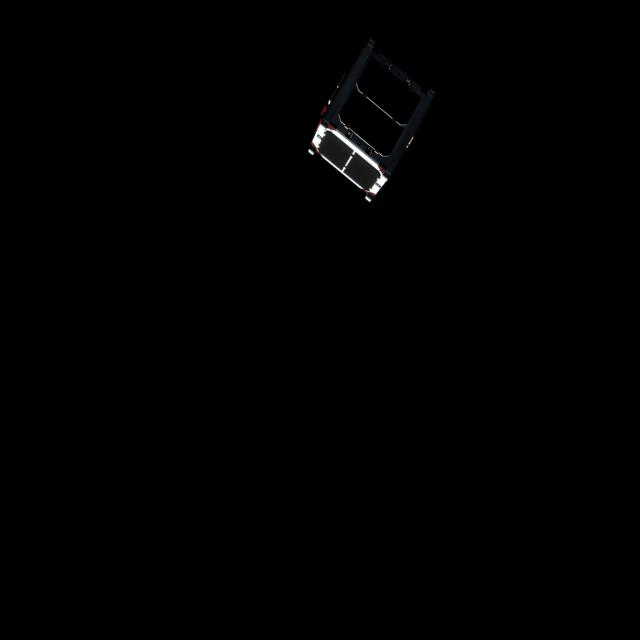medium_debris: (300, 41, 440, 217)
